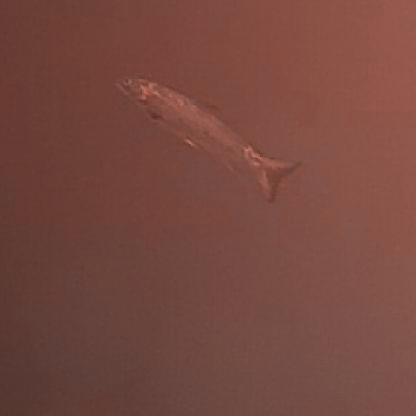salmon: (108, 68, 304, 202)
